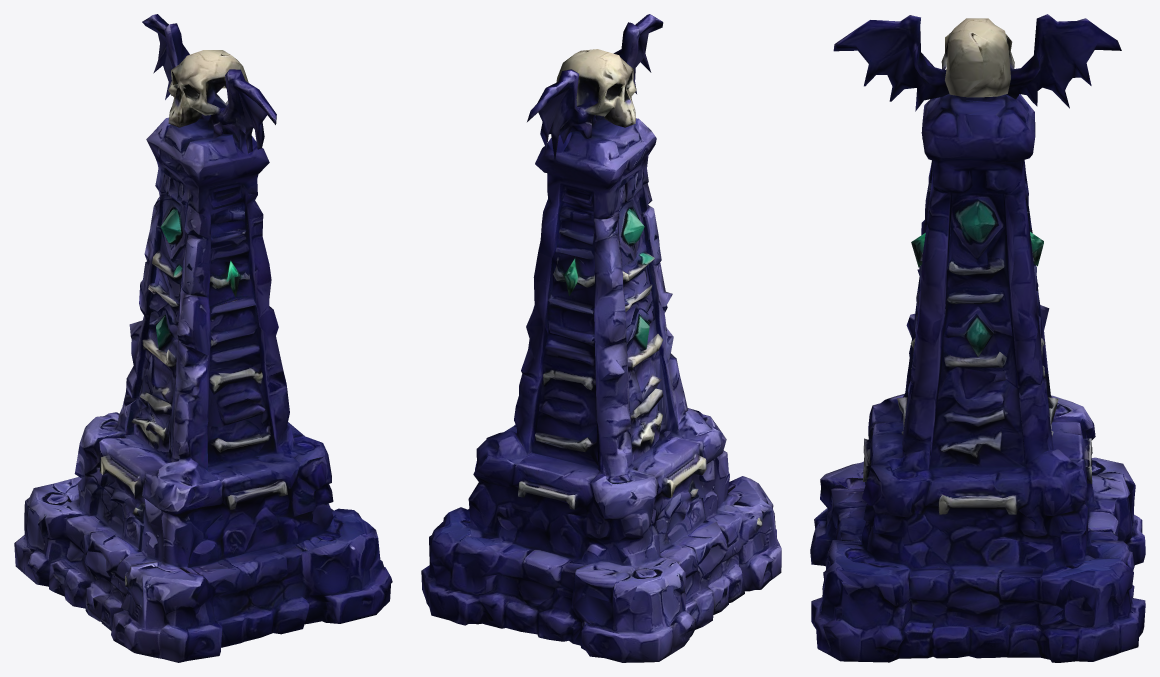
The model's file is Necromantic_Obelisk_LOD0.glb.
The picture shows the model from 3 angles, left to right: view 1: azimuth 30°, elevation 25°; view 2: azimuth 150°, elevation 25°; view 3: azimuth 270°, elevation 25°; orthographic projection. The views are drawn at different scales.
Parts seen in each view (by area): view 1: Necromantic_Obelisk_LOD0; view 2: Necromantic_Obelisk_LOD0; view 3: Necromantic_Obelisk_LOD0.
Boxes of the visible parts, x1,y1,x2,y2 form: Necromantic_Obelisk_LOD0: (14,14,392,662); Necromantic_Obelisk_LOD0: (421,14,781,662); Necromantic_Obelisk_LOD0: (810,14,1145,662).
Size of the model in its own units: 1.43 by 2.8 by 1.46.
Materials: 1 (1 with a texture image).
